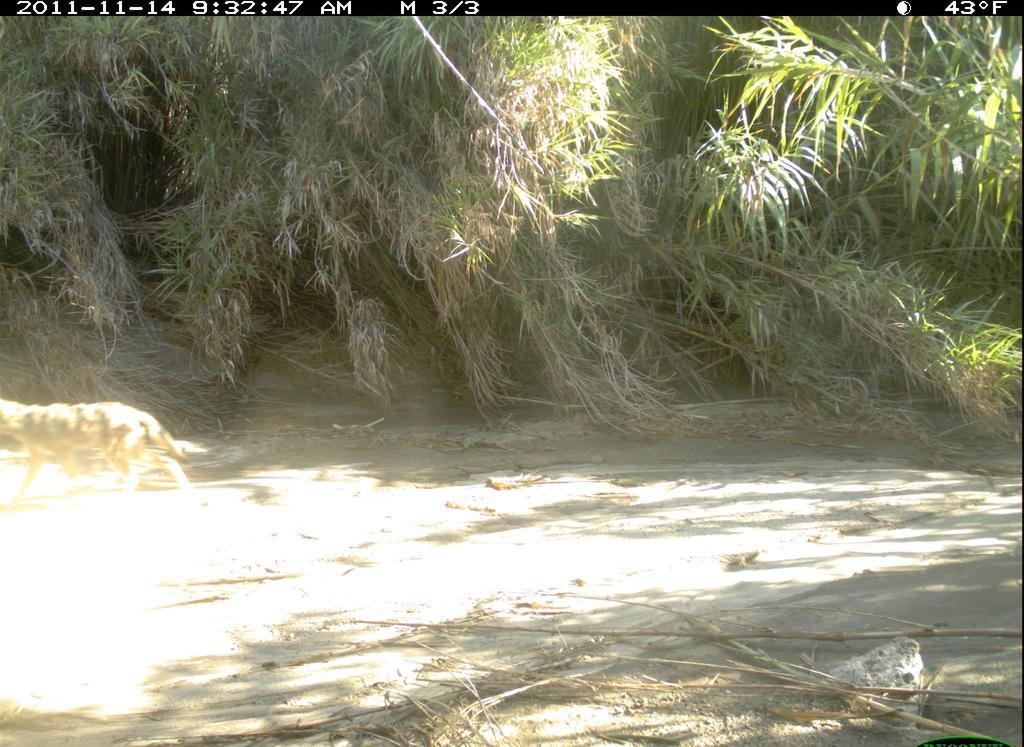coyote: (3, 396, 228, 511)
